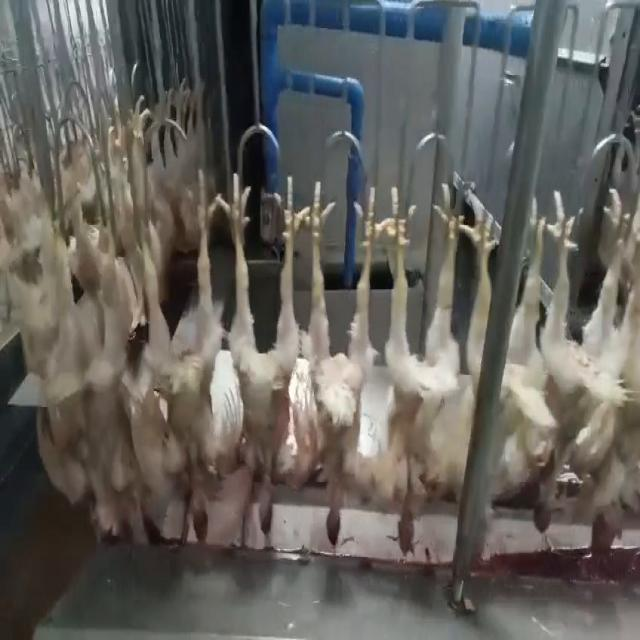chicken: (367, 183, 468, 559), (211, 176, 307, 544), (527, 187, 629, 531), (284, 180, 376, 553), (151, 161, 217, 542), (87, 173, 150, 539), (498, 213, 546, 504), (456, 200, 500, 484)
